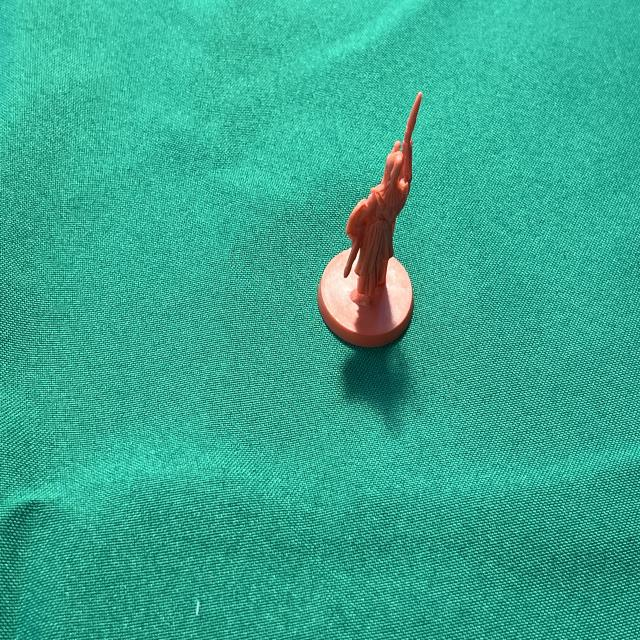amon_follower: (318, 93, 421, 347)
